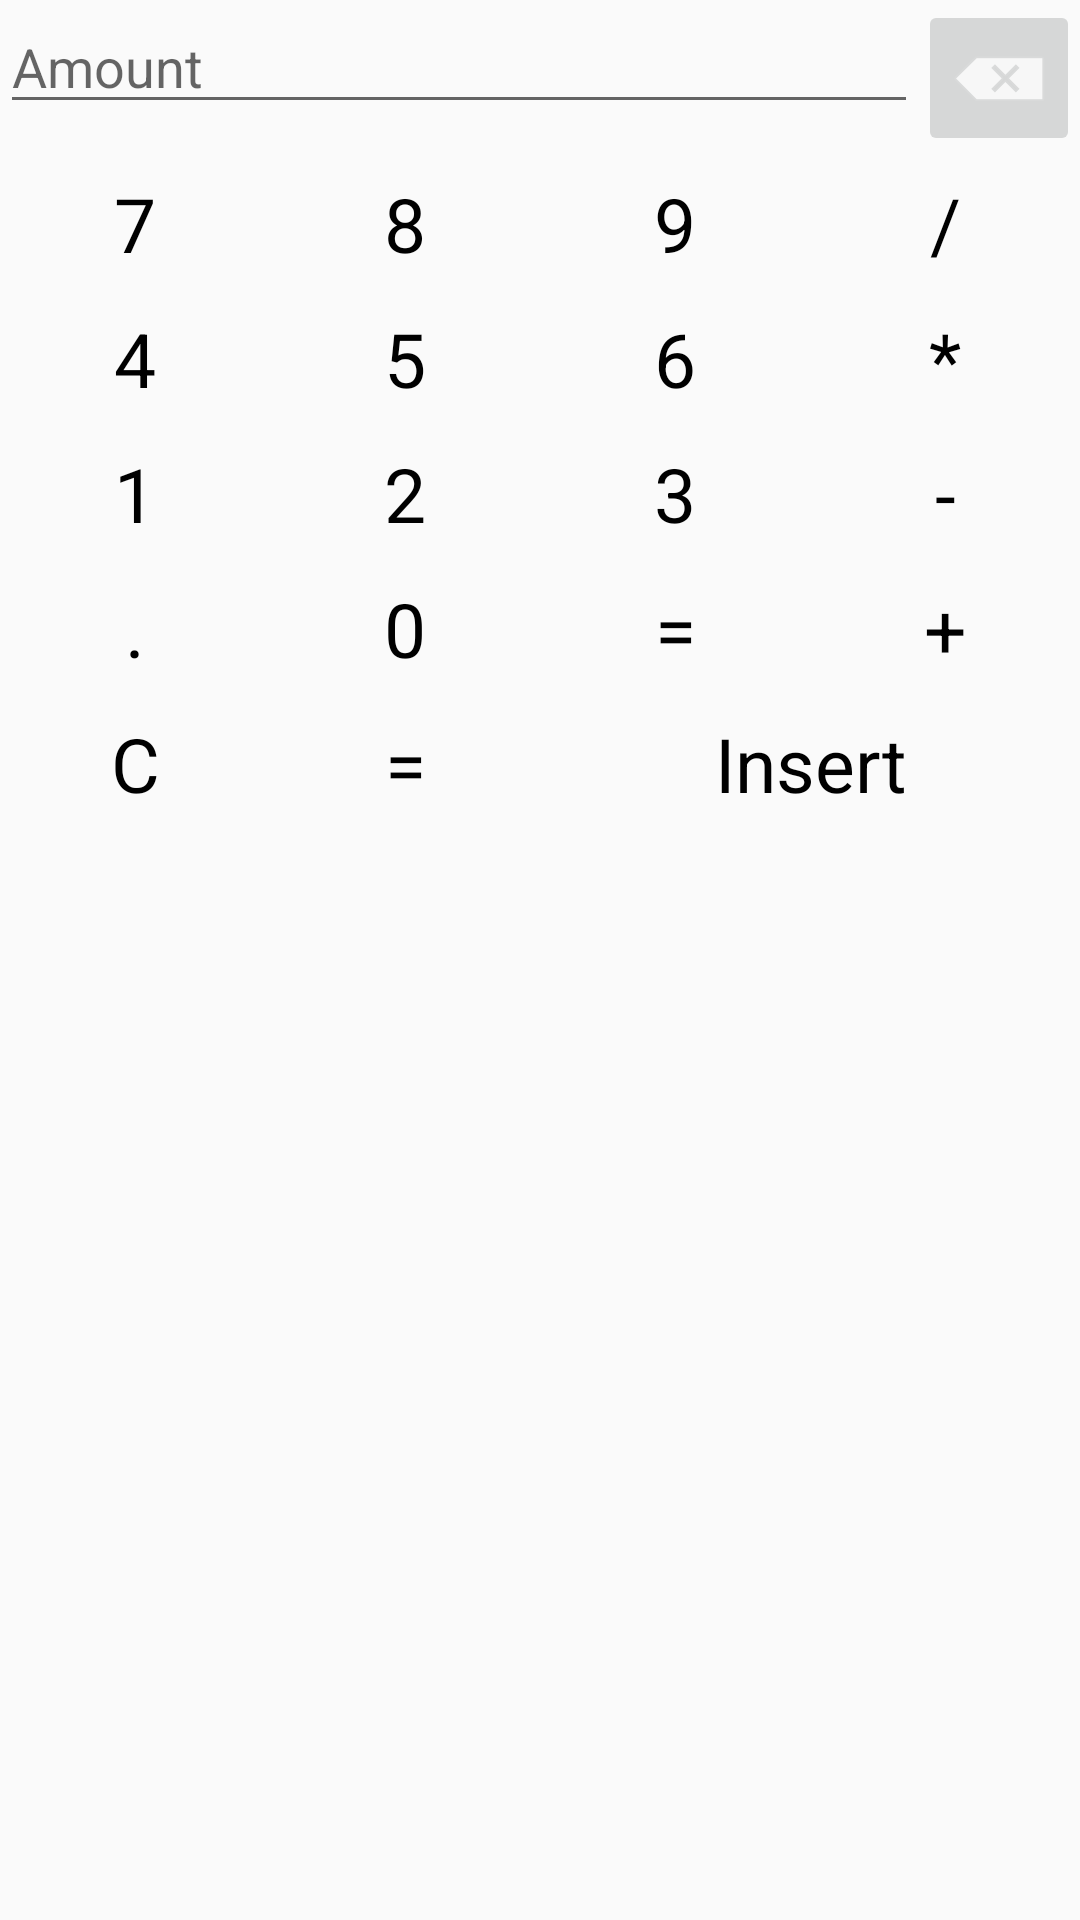

Named icons in this screenshot (1080 x 1920) and their centers, (x=x, y=y):
delete: (x=999, y=78)
